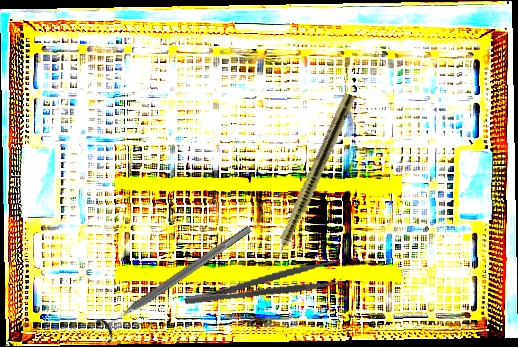Dressing Forceps: (181, 259, 343, 308)
Fixation Ring: (93, 216, 258, 345)
Handpiece: (263, 91, 357, 275)
